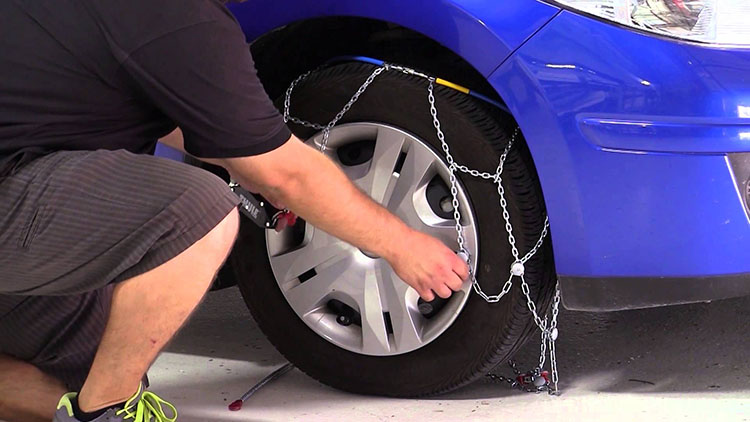tire: (224, 48, 567, 398)
